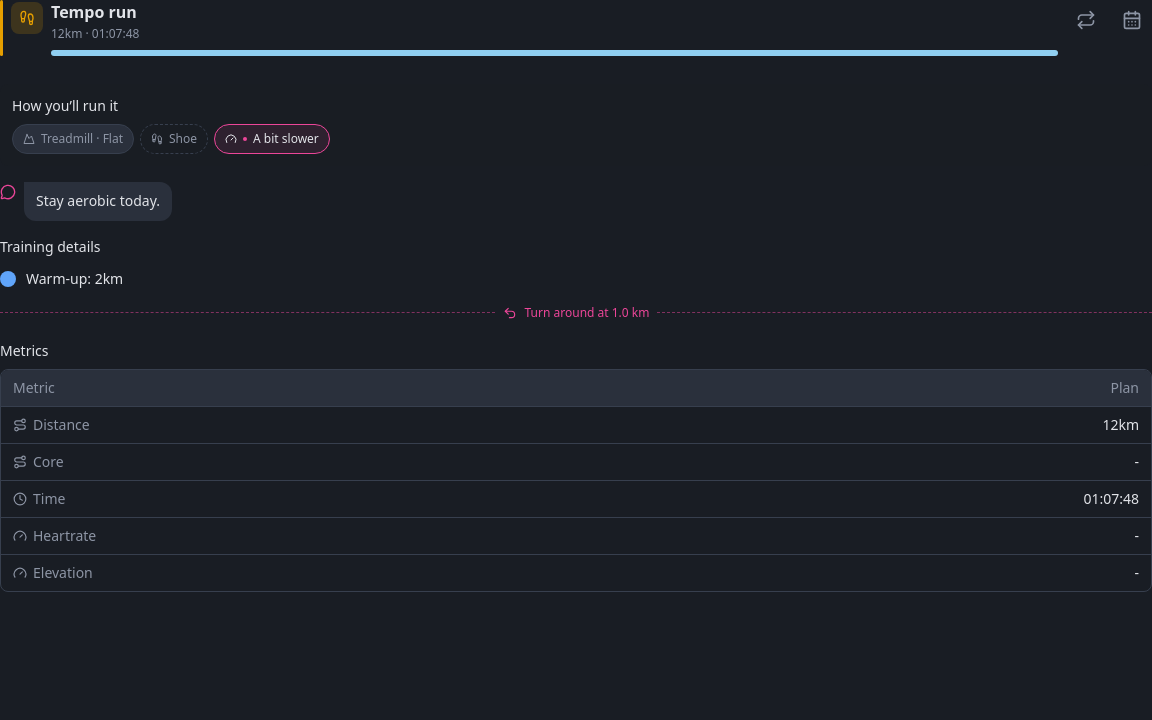
Test: changing the session from the card › opens the session editor from the change-session action button
Click the button named "Change session": coordinates (1086, 20) [1066, 0, 1106, 40]
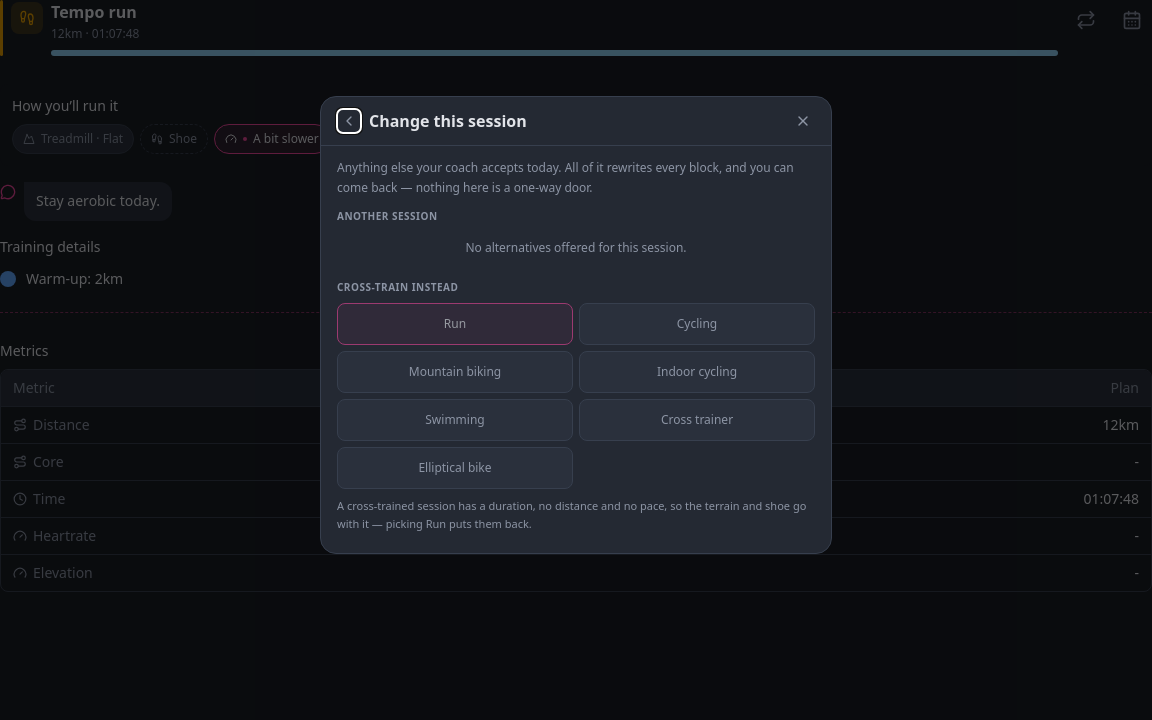
expect the heading "Change this session" is shown: met, box [369, 110, 527, 132]
